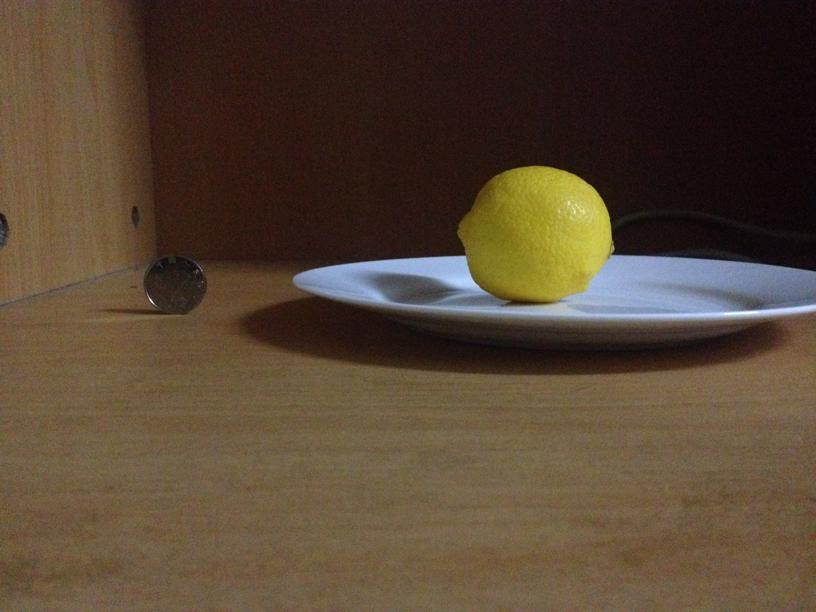coin: (145, 255, 208, 315)
lemon: (455, 168, 610, 302)
